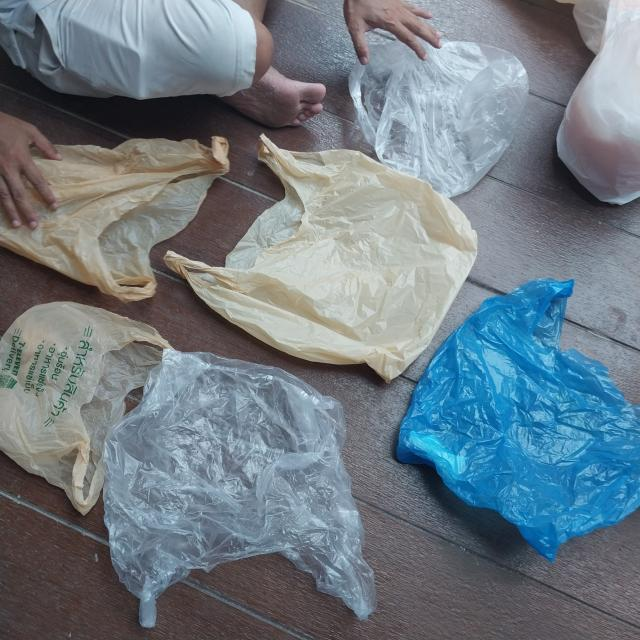Single-layer Plastic: (163, 132, 484, 385), (99, 347, 378, 637), (399, 275, 640, 559), (0, 134, 234, 300), (0, 299, 169, 520), (353, 39, 529, 201), (556, 0, 640, 204)
